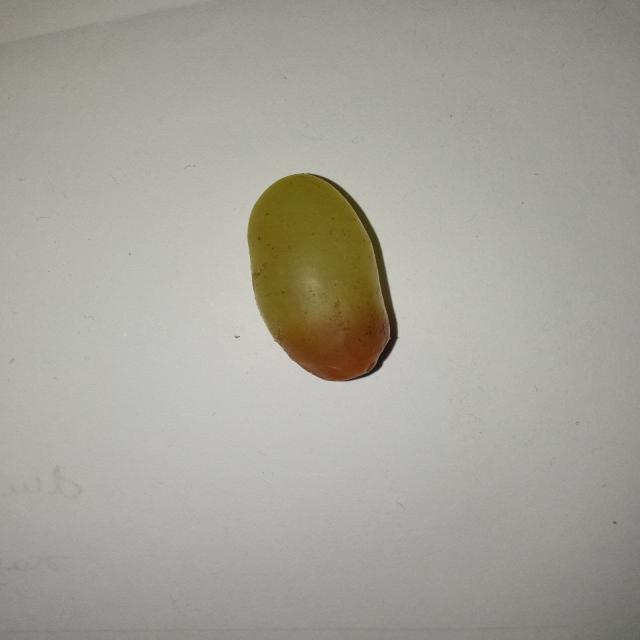rotten_grape: (252, 175, 386, 378)
